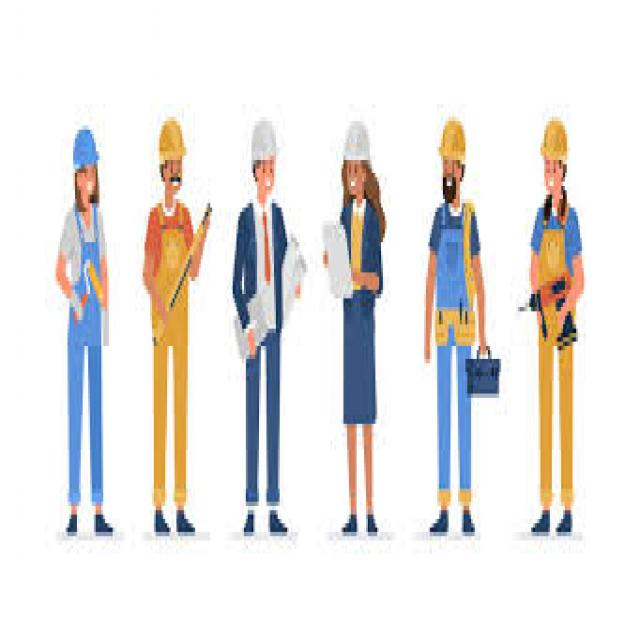Safety-Helmet: (338, 104, 375, 173), (248, 104, 282, 168), (156, 112, 190, 173), (436, 112, 470, 173), (67, 117, 101, 173), (538, 112, 570, 168)
